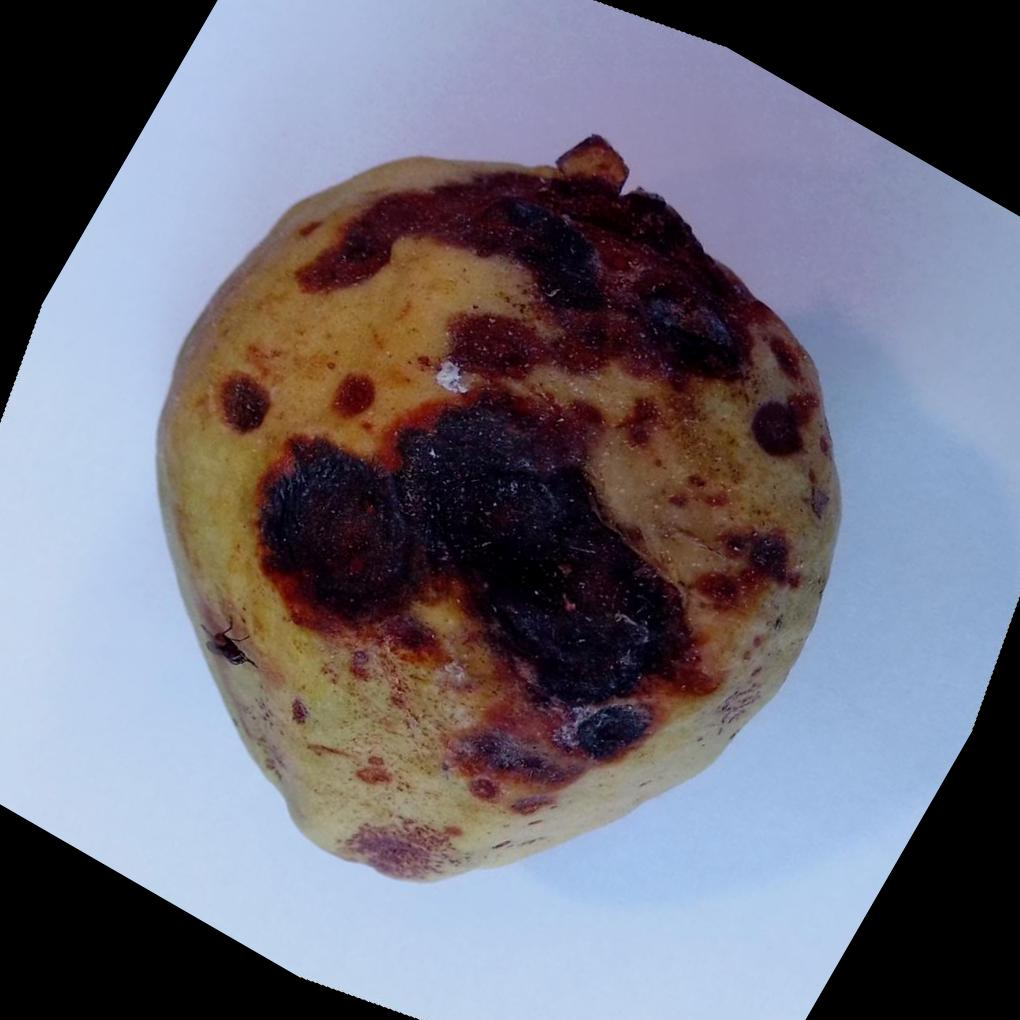FreshOrange: (155, 132, 845, 881)
